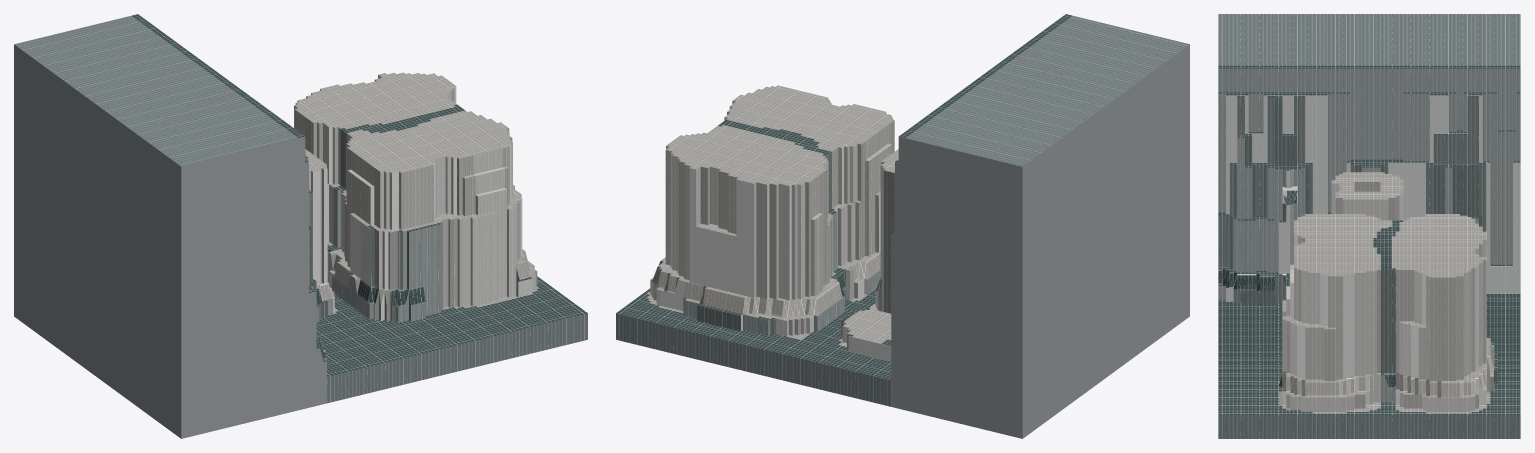
3 views of the same model, side by side, from view 1: azimuth 30°, elevation 25°; view 2: azimuth 150°, elevation 25°; view 3: azimuth 270°, elevation 25° (orthographic). The views are drawn at different scales.
Visible parts, largest first — view 1: Plano80x80P0; view 2: Plano80x80P0; view 3: Plano80x80P0.
Boxes of the visible parts, x1,y1,x2,y2 form: Plano80x80P0: (14,14,587,438); Plano80x80P0: (616,14,1189,438); Plano80x80P0: (1218,14,1520,438).
Bounding box in the file's own units: 112 × 71.8 × 80.
1 material, 1 textured.
